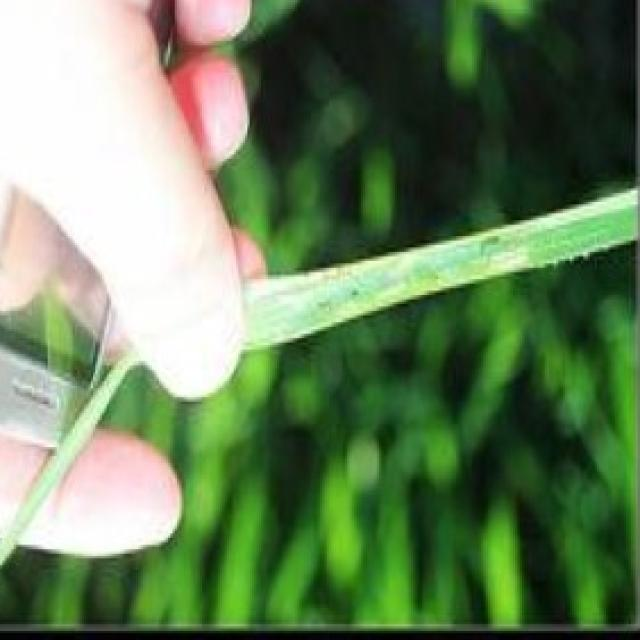rice leaf roller: (241, 192, 640, 345)
